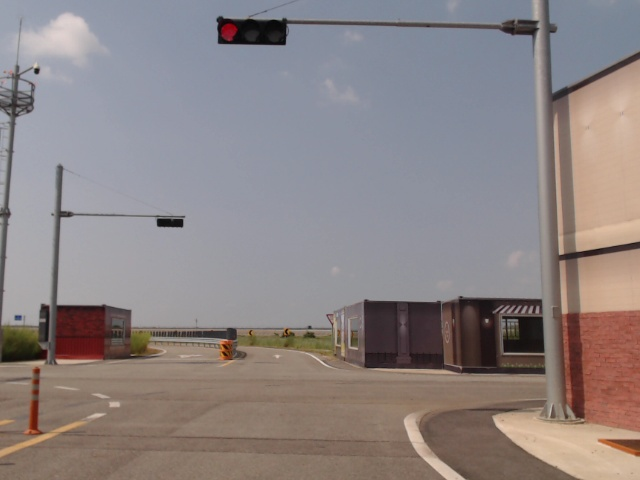red_3: (217, 19, 287, 46)
